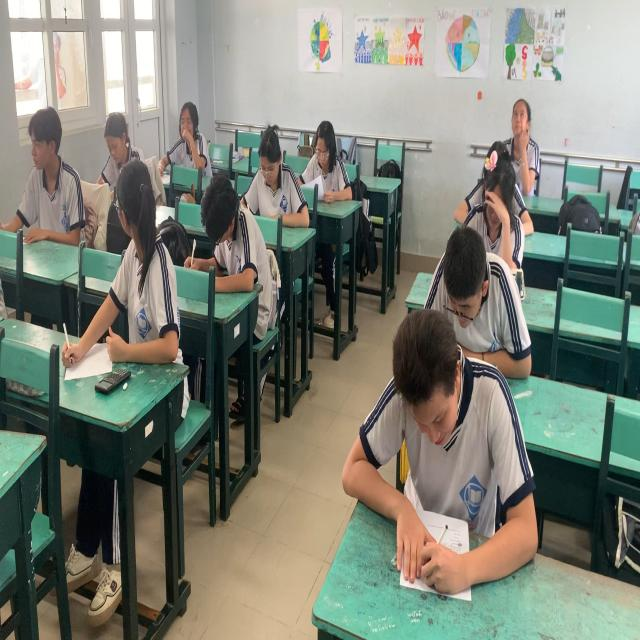cheating: (109, 160, 182, 357)
not_cheating: (358, 308, 464, 506), (21, 101, 71, 239), (435, 226, 493, 343), (196, 157, 250, 267), (243, 116, 293, 216), (305, 98, 346, 208), (167, 104, 206, 180), (480, 157, 513, 232), (93, 109, 133, 167), (505, 91, 534, 156)
